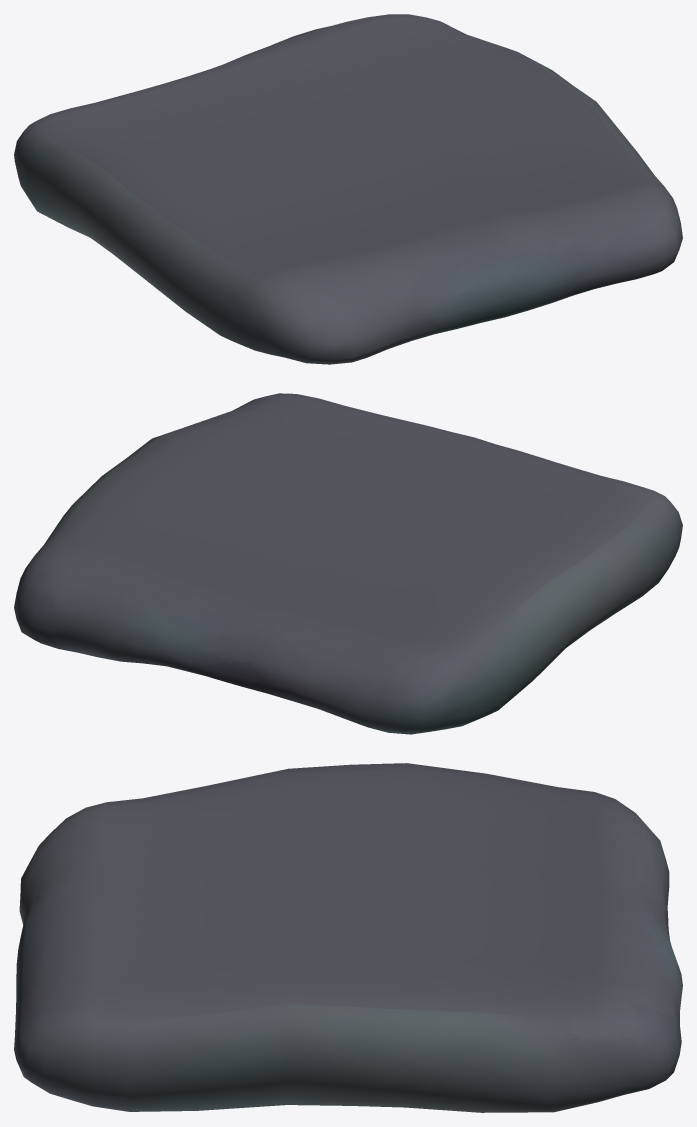
The model's file is RockCeilingFlat.fbx.
The picture shows the model from 3 angles, top to bottom: view 1: azimuth 30°, elevation 25°; view 2: azimuth 150°, elevation 25°; view 3: azimuth 270°, elevation 25°; orthographic projection. The views are drawn at different scales.
Visible parts, largest first — view 1: RockCeilingFlat; view 2: RockCeilingFlat; view 3: RockCeilingFlat.
Boxes of the visible parts, x1,y1,x2,y2 form: RockCeilingFlat: (14, 14, 682, 364); RockCeilingFlat: (14, 393, 682, 734); RockCeilingFlat: (14, 763, 682, 1112).
Bounding box in the file's own units: 317 × 71.32 × 326.
Materials: 1 (1 with a texture image).
